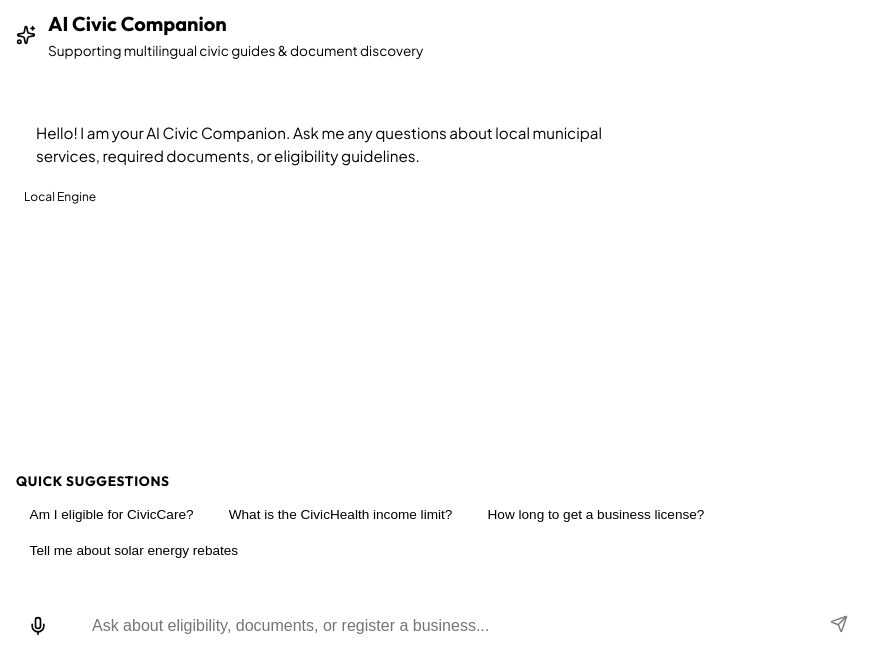
Scenario: AIChat Component › should allow user to type in chat input and submit
Type "How do I renew my driver license?" into the field with placeholder "Ask about eligibility, documents, or register a business...".
click(435, 626); type("How do I renew my driver license?")  # box [72,605,798,647]
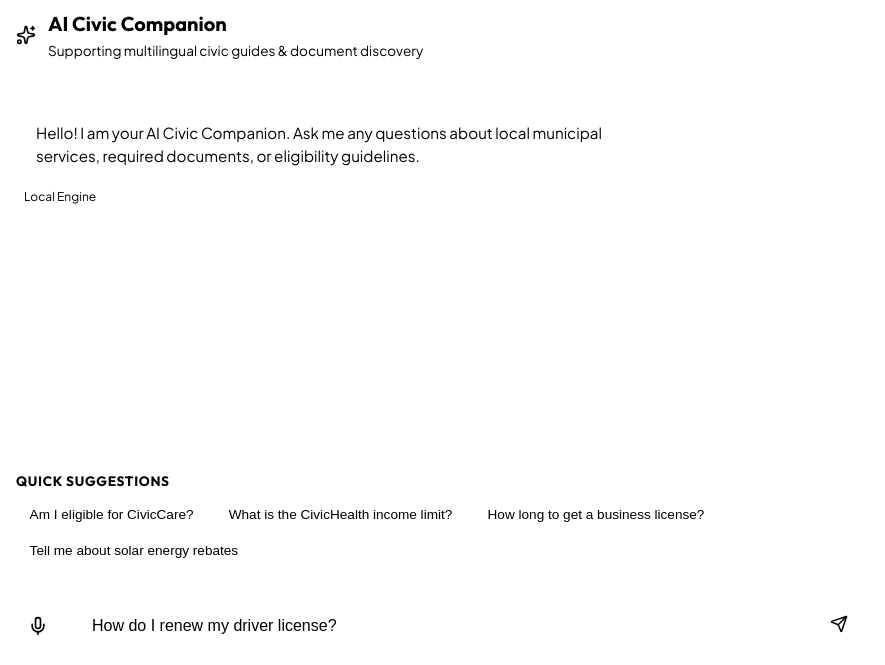
Click the button named "Send message".
click(839, 626)  # box [810,605,868,647]
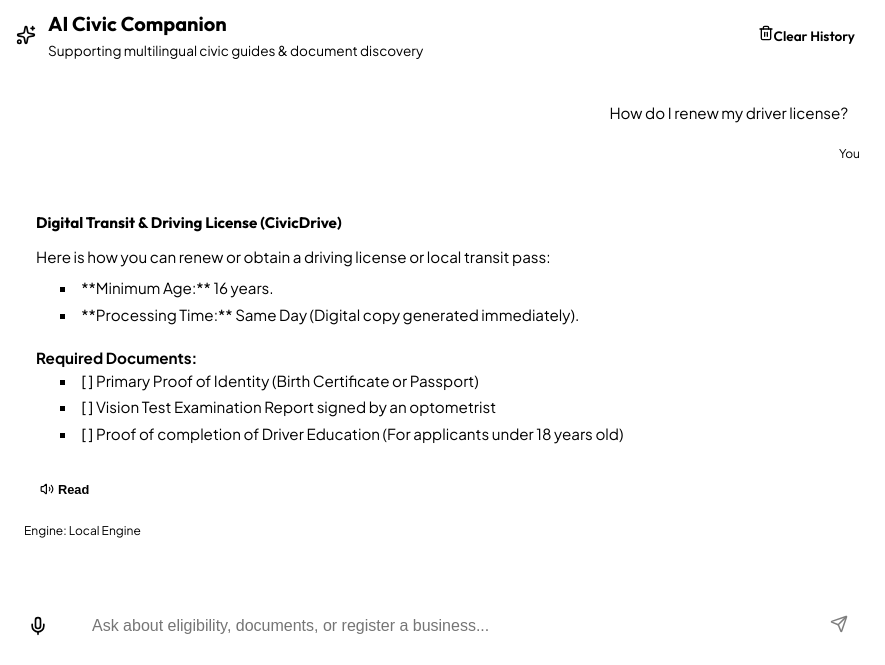
expect the form is shown: met, box [16,604,868,648]
expect the heading "Digital Transit & Driving License (CivicDrive)" is shown: met, box [36,212,342,232]
